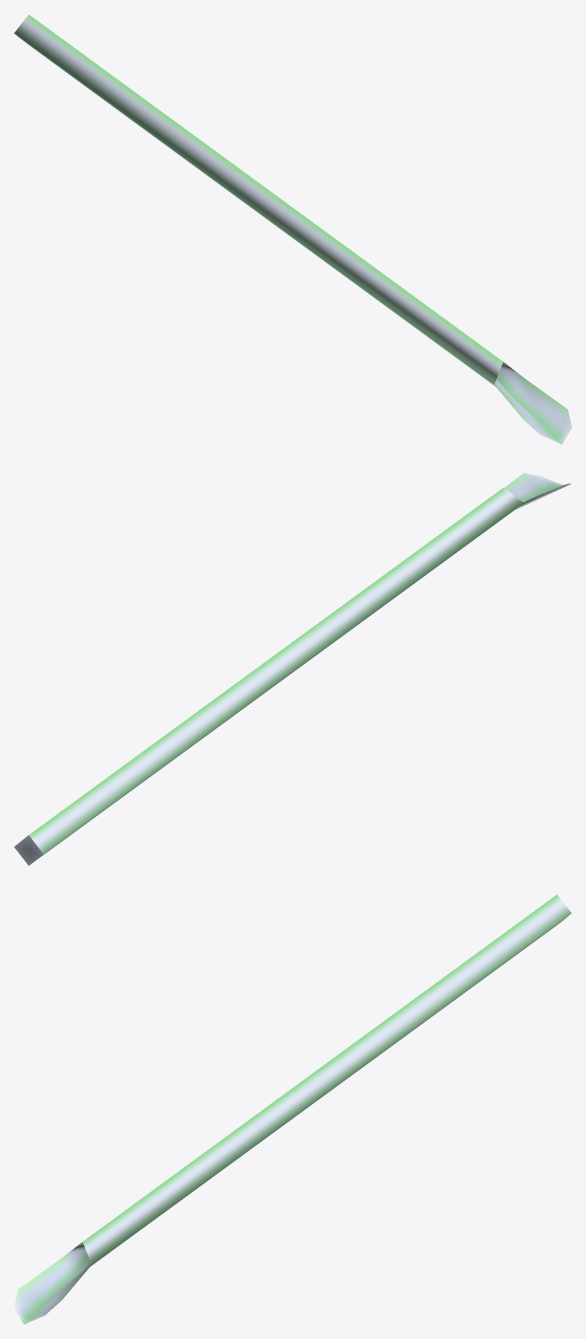
The model's file is jsf_Straw_03.fbx.
The picture shows the model from 3 angles, top to bottom: view 1: azimuth 30°, elevation 25°; view 2: azimuth 150°, elevation 25°; view 3: azimuth 330°, elevation 25°; orthographic projection.
Parts seen in each view (by area): view 1: jsf_Straw_03; view 2: jsf_Straw_03; view 3: jsf_Straw_03.
Part boxes in pixels (x1,y1,x2,y2): jsf_Straw_03: [14, 14, 571, 444]; jsf_Straw_03: [14, 473, 571, 865]; jsf_Straw_03: [14, 894, 571, 1324].
Bounding box in the file's own units: 1 × 0.8719 × 21.
